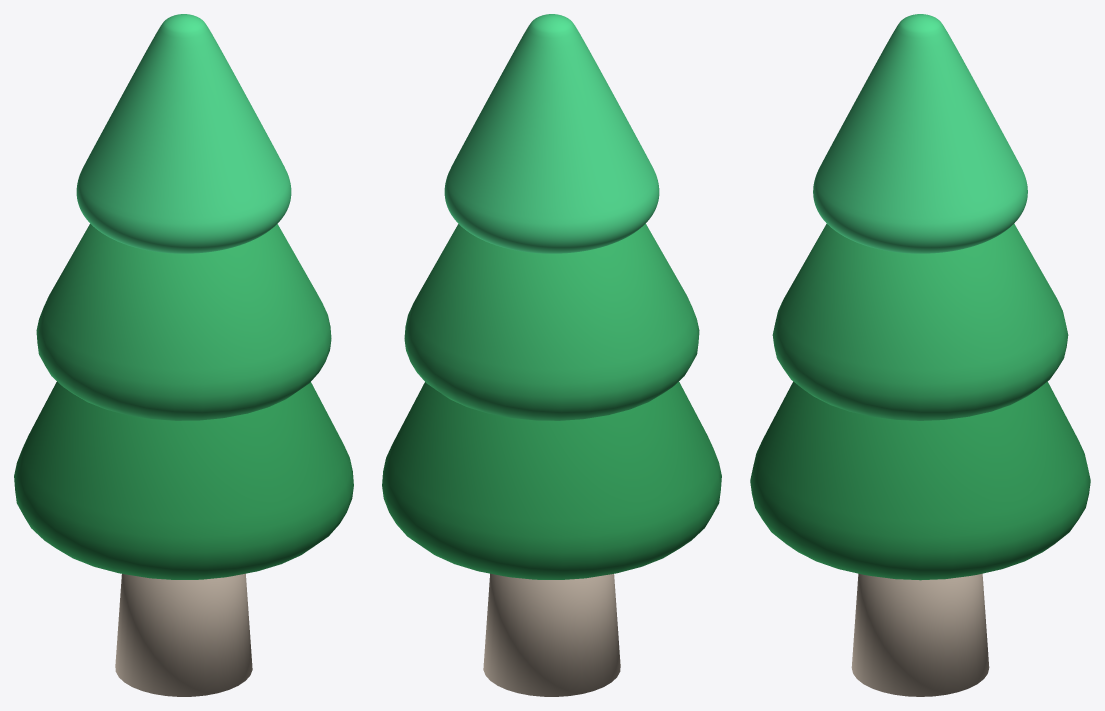
The model's file is Tree1.fbx.
3 renders of one model, left to right at view 1: azimuth 30°, elevation 25°; view 2: azimuth 150°, elevation 25°; view 3: azimuth 270°, elevation 25°, orthographic.
Visible parts, largest first — view 1: Cone.006, Cone.005, Cone.004, Cylinder.002; view 2: Cone.006, Cone.005, Cone.004, Cylinder.002; view 3: Cone.006, Cone.005, Cone.004, Cylinder.002.
Part boxes in pixels (x1,y1,x2,y2): Cone.006: (14,381,353,579); Cone.005: (36,223,331,420); Cone.004: (76,14,291,253); Cylinder.002: (115,573,252,696); Cone.006: (382,381,721,579); Cone.005: (404,223,699,420); Cone.004: (444,14,659,253); Cylinder.002: (483,573,620,696); Cone.006: (750,381,1090,580); Cone.005: (772,224,1068,420); Cone.004: (813,14,1027,253); Cylinder.002: (851,573,989,696).
Bounding box in the file's own units: 59.36 × 125 × 59.36.
